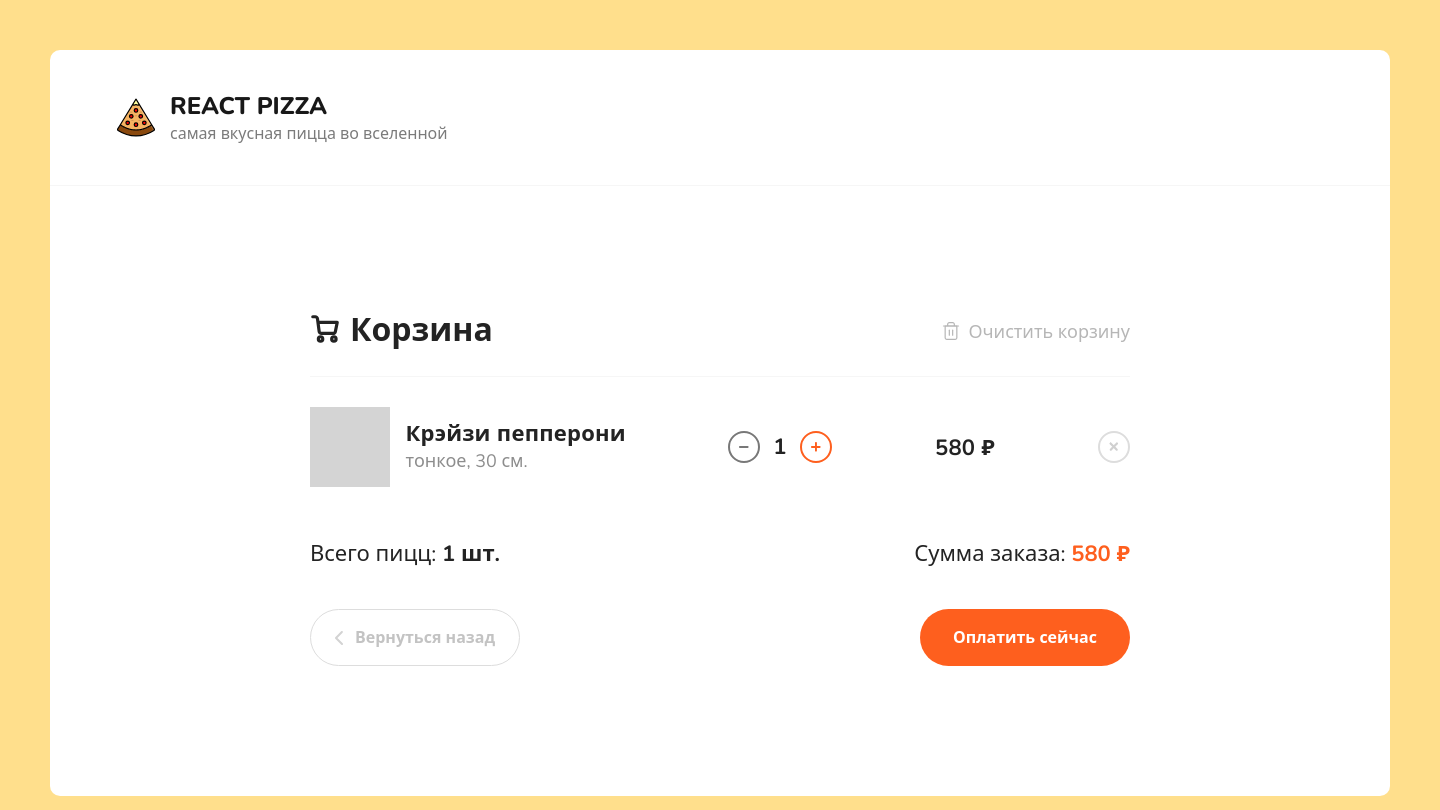
Test case: test cart component › increase pizza
Click the button with test id "increase".
click(816, 447)  # box [800,431,832,463]
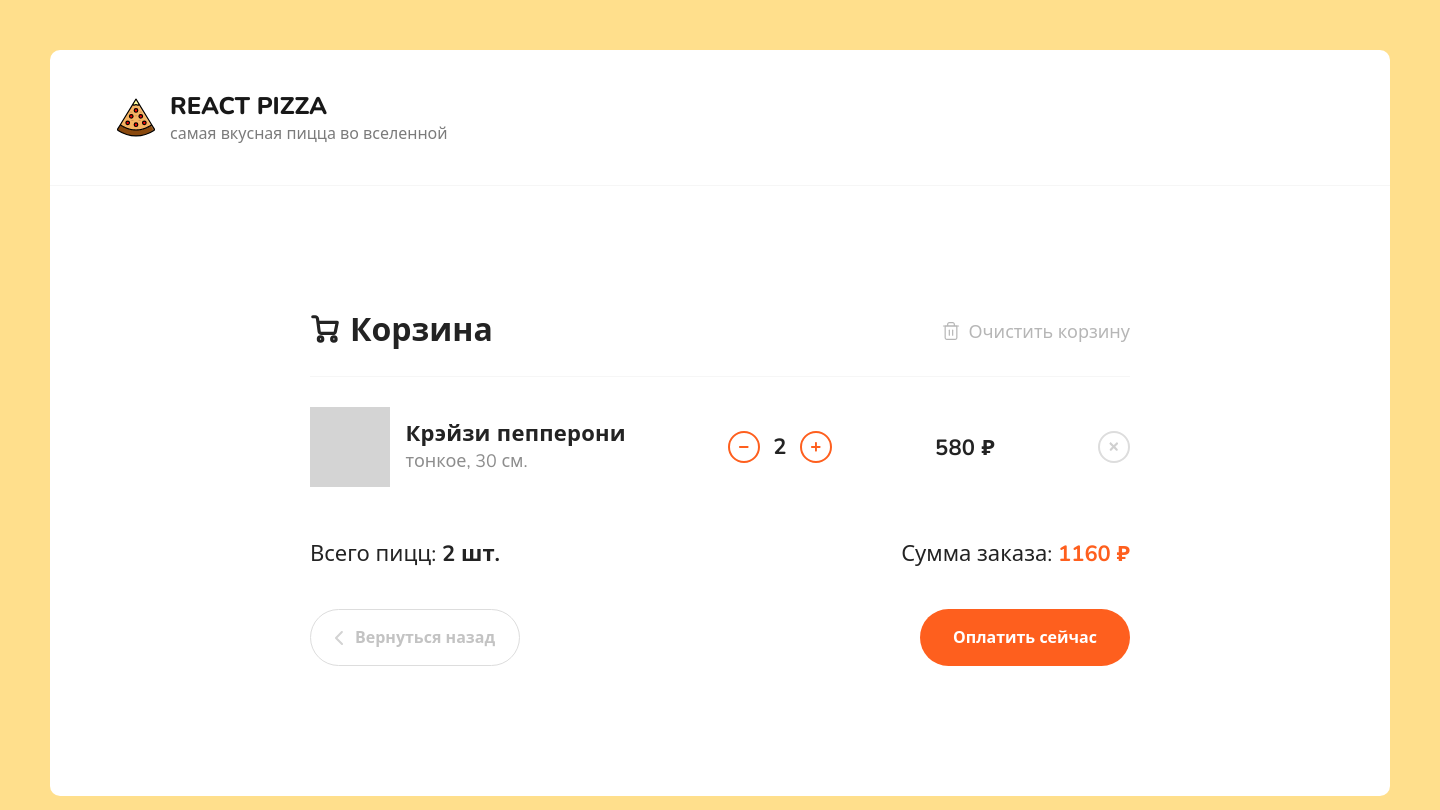
Check: the text "1160" is shown, box [1058,539,1111,569]
